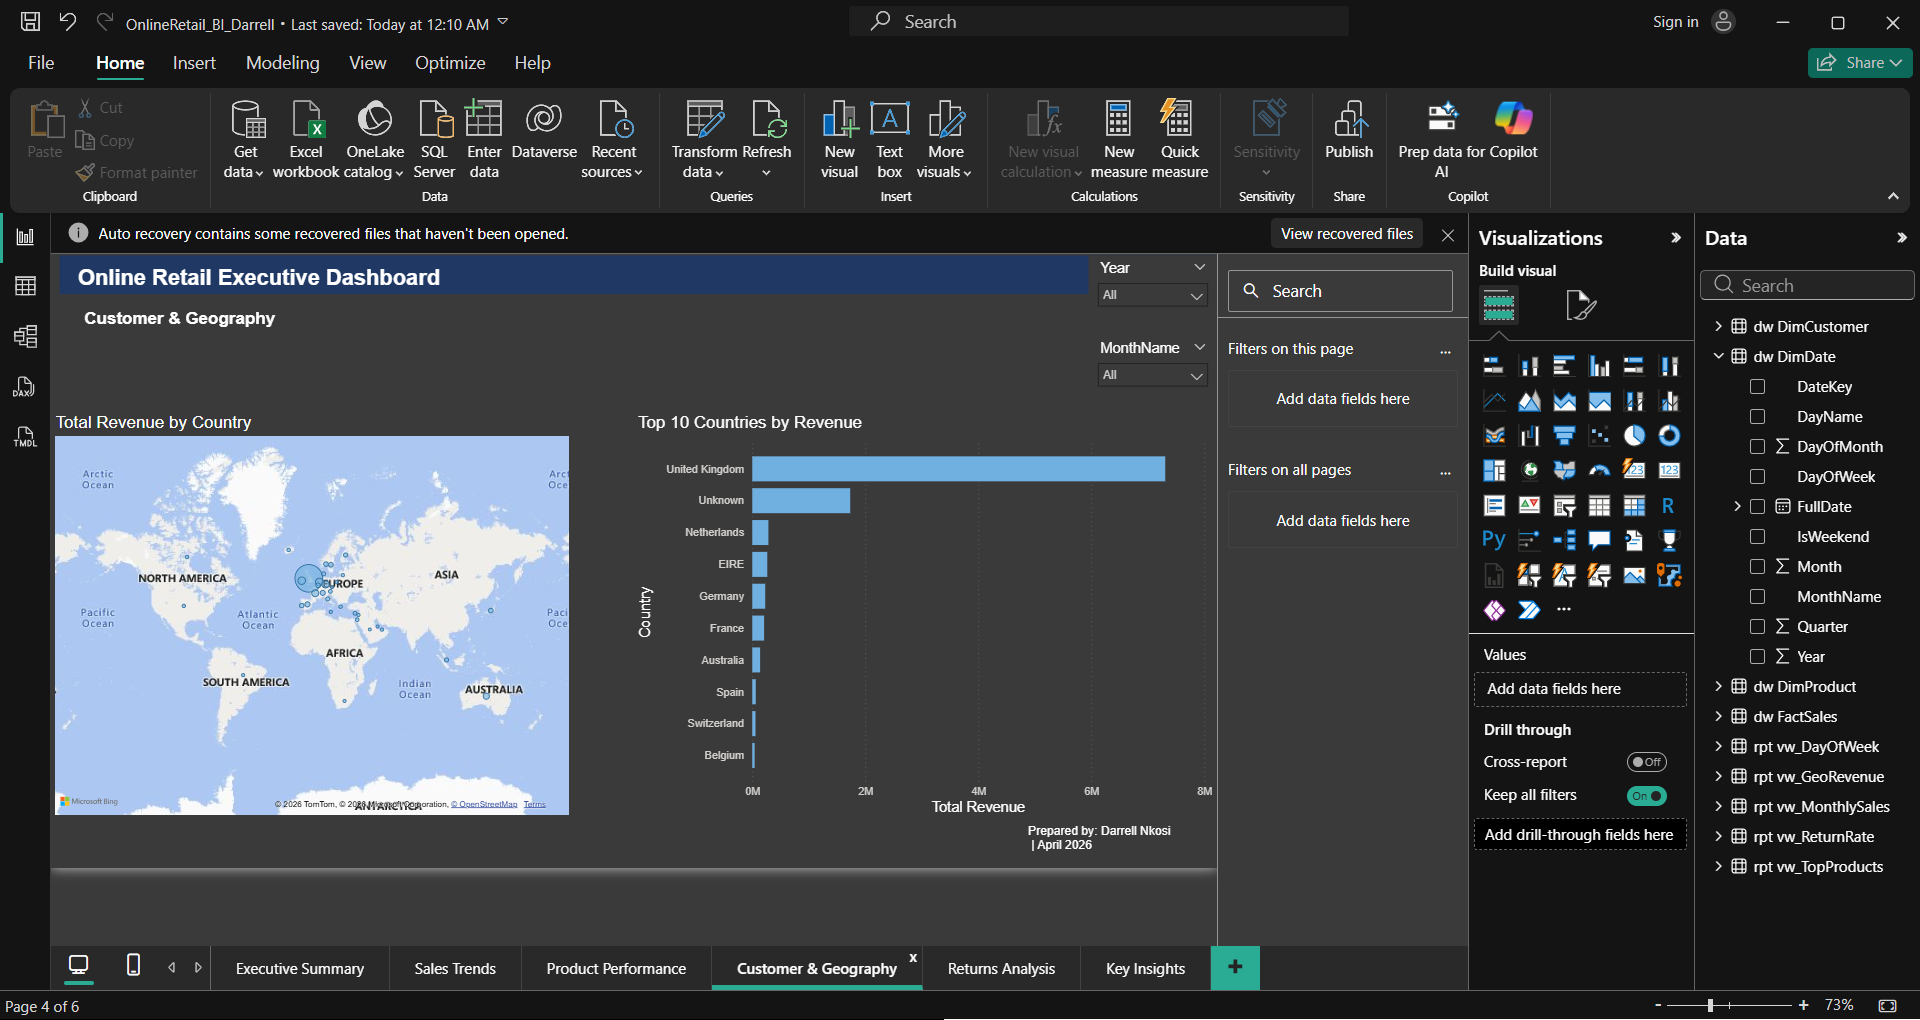

Layout of this report page (visuals, bound fields, positions):
{"tool":"powerbi","page":{"name":"Customer & Geography","canvas":[1280,720],"ordinal":3},"visuals":[{"type":"map","fields":{"Size":["dw FactSales.Total Revenue"],"Category":["dw DimCustomer.Country"]},"box":[0,219.6,573.6,446],"z":0},{"type":"clusteredBarChart","title":"Top 10 Countries by Revenue","fields":{"Category":["dw DimCustomer.Country"],"Y":["dw FactSales.Total Revenue"]},"box":[639.5,219.6,640.8,446],"z":1000},{"type":"textbox","box":[9.6,46.7,1269.3,42.5],"z":2000},{"type":"textbox","box":[31.6,100.2,1247.3,48],"z":3000},{"type":"slicer","fields":{"Values":["dw DimDate.Year"]},"box":[1138.7,46.7,141.3,87.8],"z":4000},{"type":"slicer","fields":{"Values":["dw DimDate.MonthName"]},"box":[1138.7,134.5,141.3,85.1],"z":5000},{"type":"textbox","box":[1067.3,665.1,212.7,54.9],"z":6000}]}

Visuals, with their boxes on the page's 1280x720 design canvas (x1, y1, x2, y2). These are canvas units, not pixel positions in the 1920x1020 screenshot, which may show the page scaled, cropped or inside an application window:
map - dw FactSales.Total Revenue x dw DimCustomer.Country: crop(0, 220, 574, 666)
"Top 10 Countries by Revenue" clusteredBarChart: crop(640, 220, 1280, 666)
textbox: crop(10, 47, 1279, 89)
textbox: crop(32, 100, 1279, 148)
slicer - dw DimDate.Year: crop(1139, 47, 1280, 134)
slicer - dw DimDate.MonthName: crop(1139, 134, 1280, 220)
textbox: crop(1067, 665, 1280, 720)
